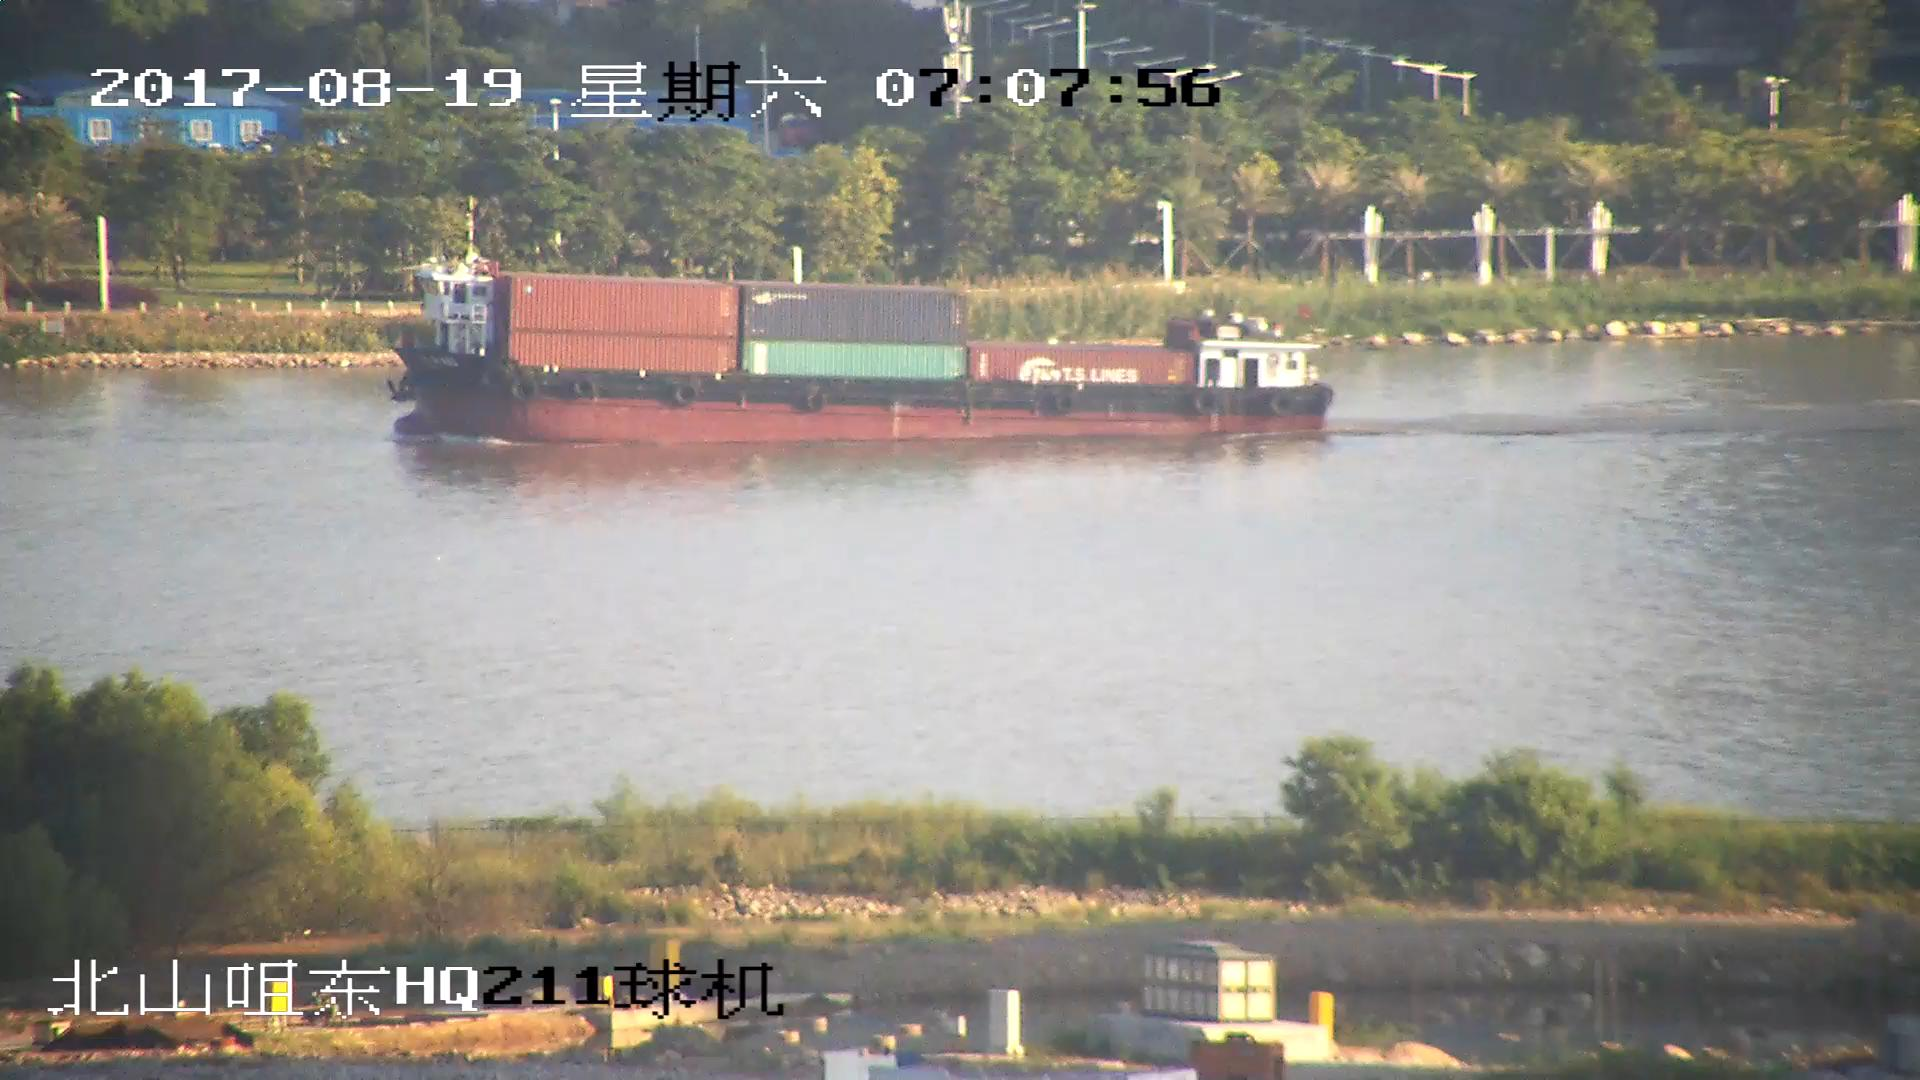container ship: (382, 246, 1331, 441)
